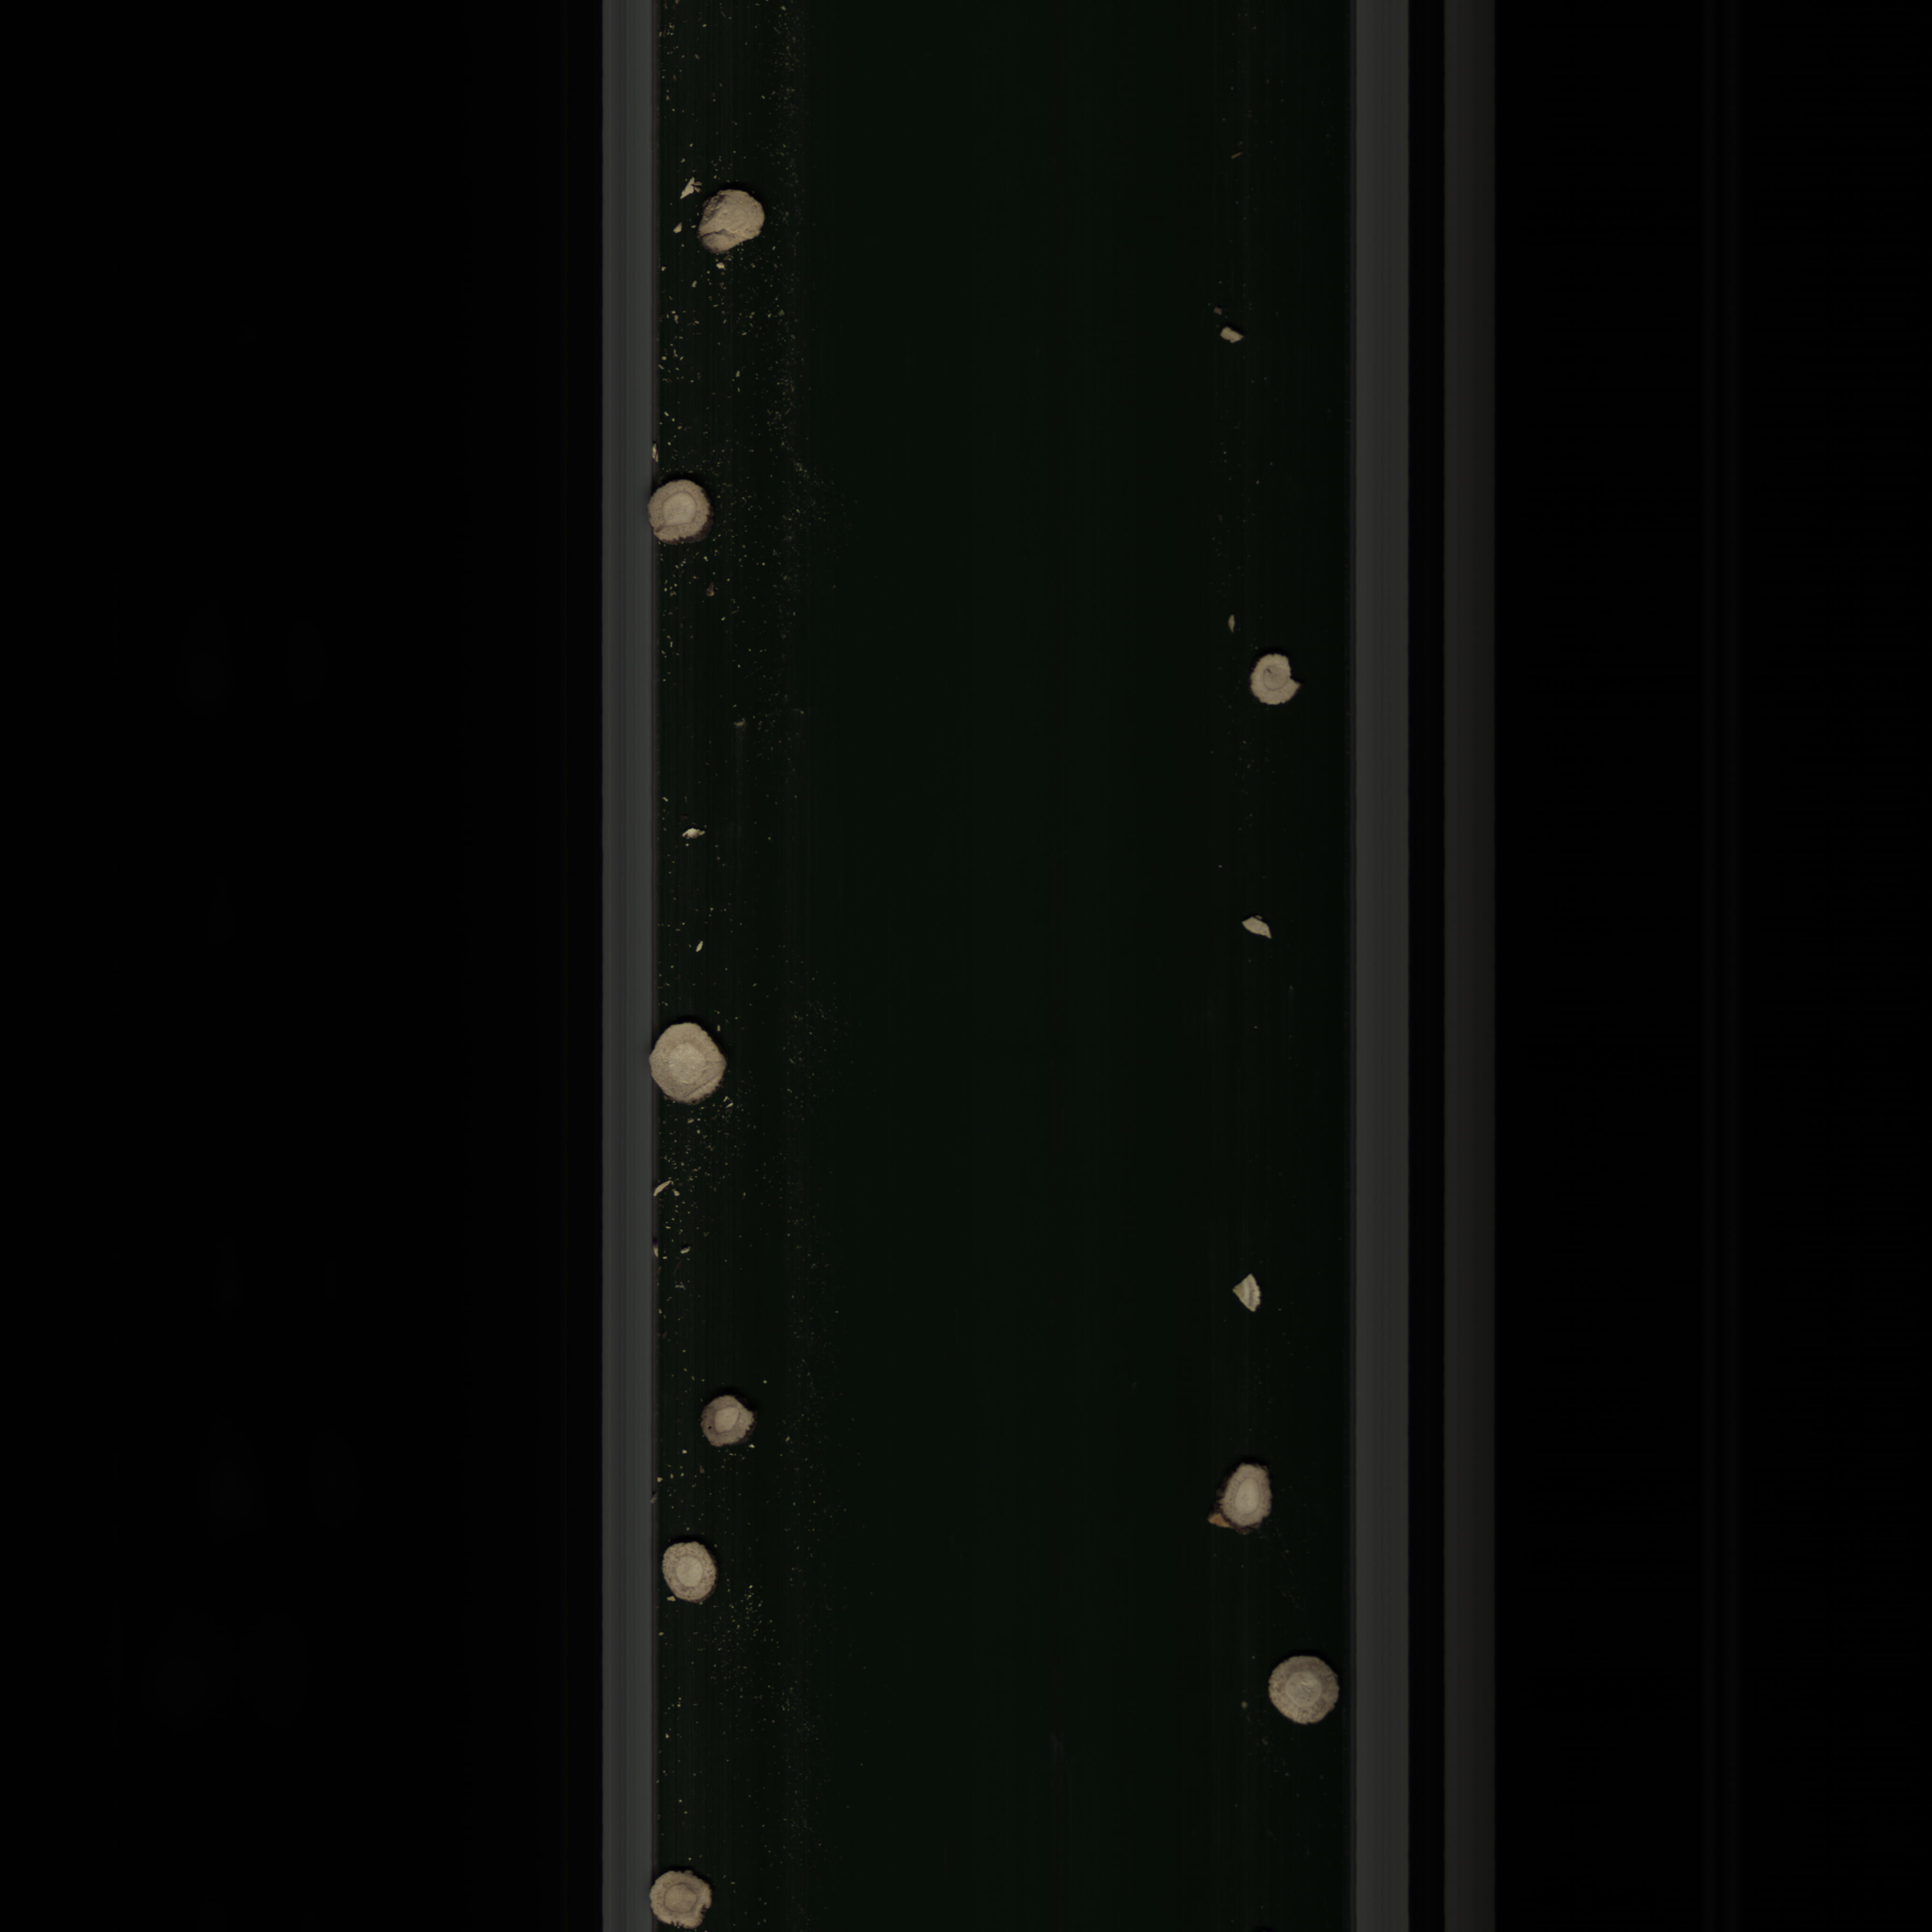debris: (1246, 648, 1309, 713), (1223, 1267, 1272, 1322), (1237, 909, 1277, 947)
